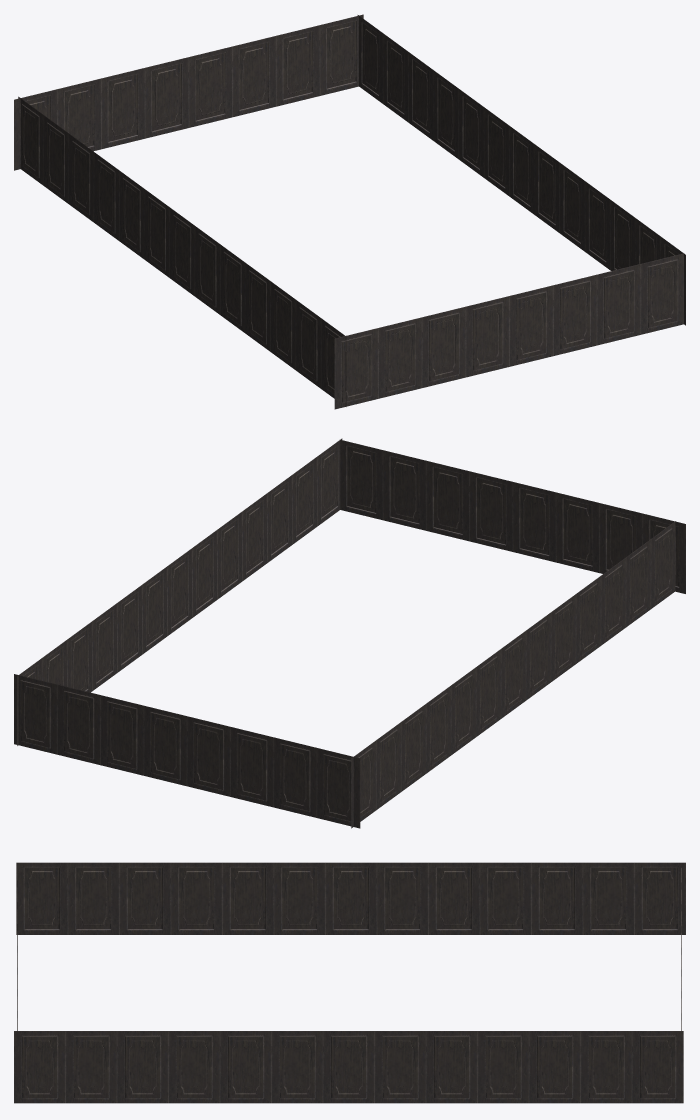
The model's file is ParliamentWalls.fbx.
3 views of the same model, one above another, from view 1: azimuth 30°, elevation 25°; view 2: azimuth 150°, elevation 25°; view 3: azimuth 270°, elevation 25° (orthographic). The views are drawn at different scales.
Visible parts, largest first — view 1: WallPanel20 (×2), WallPanel19 (×2), WallPanel22 (×2), WallPanel21 (×2), WallPanel23 (×2), WallPanel24 (×2), WallPanel18 (×2), WallPanel17 (×2), WallPanel7 (×2), WallPanel10 (×2), WallPanel13 (×2), WallPanel6 (×2) (+9 smaller); view 2: WallPanel20 (×2), WallPanel18 (×2), WallPanel19 (×2), WallPanel22 (×2), WallPanel21 (×2), WallPanel17 (×2), WallPanel23 (×2), WallPanel24 (×2), WallPanel15 (×2), WallPanel9 (×2), WallPanel10 (×2), WallPanel12 (×2) (+9 smaller); view 3: WallPanel3 (×2), WallPanel6 (×2), WallPanel8 (×2), WallPanel10 (×2), WallPanel12 (×2), WallPanel14 (×2), WallPanel16 (×2), WallPanel5 (×2), WallPanel7 (×2), WallPanel9 (×2), WallPanel11 (×2), WallPanel13 (×2) (+1 smaller).
Boxes of the visible parts, box(x1,y1,x2,y2) form: WallPanel20 (×2): box(145, 57, 553, 366); WallPanel19 (×2): box(101, 68, 596, 355); WallPanel22 (×2): box(232, 36, 465, 387); WallPanel21 (×2): box(189, 46, 509, 377); WallPanel23 (×2): box(276, 25, 421, 398); WallPanel24 (×2): box(320, 14, 378, 409); WallPanel18 (×2): box(57, 78, 640, 345); WallPanel17 (×2): box(14, 89, 683, 334); WallPanel7 (×2): box(245, 70, 458, 351); WallPanel10 (×2): box(169, 126, 534, 296); WallPanel13 (×2): box(94, 152, 610, 269); WallPanel6 (×2): box(270, 52, 433, 370); WallPanel20 (×2): box(187, 471, 512, 796); WallPanel18 (×2): box(273, 450, 426, 817); WallPanel19 (×2): box(230, 460, 469, 807); WallPanel22 (×2): box(100, 492, 599, 775); WallPanel21 (×2): box(143, 482, 556, 786); WallPanel17 (×2): box(317, 440, 382, 828); WallPanel23 (×2): box(57, 503, 642, 765); WallPanel24 (×2): box(14, 513, 685, 754); WallPanel15 (×2): box(292, 457, 401, 809); WallPanel9 (×2): box(142, 566, 550, 700); WallPanel10 (×2): box(167, 548, 525, 718); WallPanel12 (×2): box(217, 512, 475, 755); WallPanel3 (×2): box(16, 862, 683, 1103); WallPanel6 (×2): box(119, 862, 580, 1103); WallPanel8 (×2): box(222, 862, 477, 1103); WallPanel10 (×2): box(323, 862, 376, 1103); WallPanel12 (×2): box(220, 862, 479, 1103); WallPanel14 (×2): box(117, 862, 582, 1103); WallPanel16 (×2): box(14, 862, 685, 1103); WallPanel5 (×2): box(68, 862, 631, 1103); WallPanel7 (×2): box(171, 862, 528, 1103); WallPanel9 (×2): box(274, 862, 425, 1103); WallPanel11 (×2): box(271, 862, 428, 1103); WallPanel13 (×2): box(168, 862, 531, 1103).
Size of the model in its own units: 1215 by 233 by 1957.
